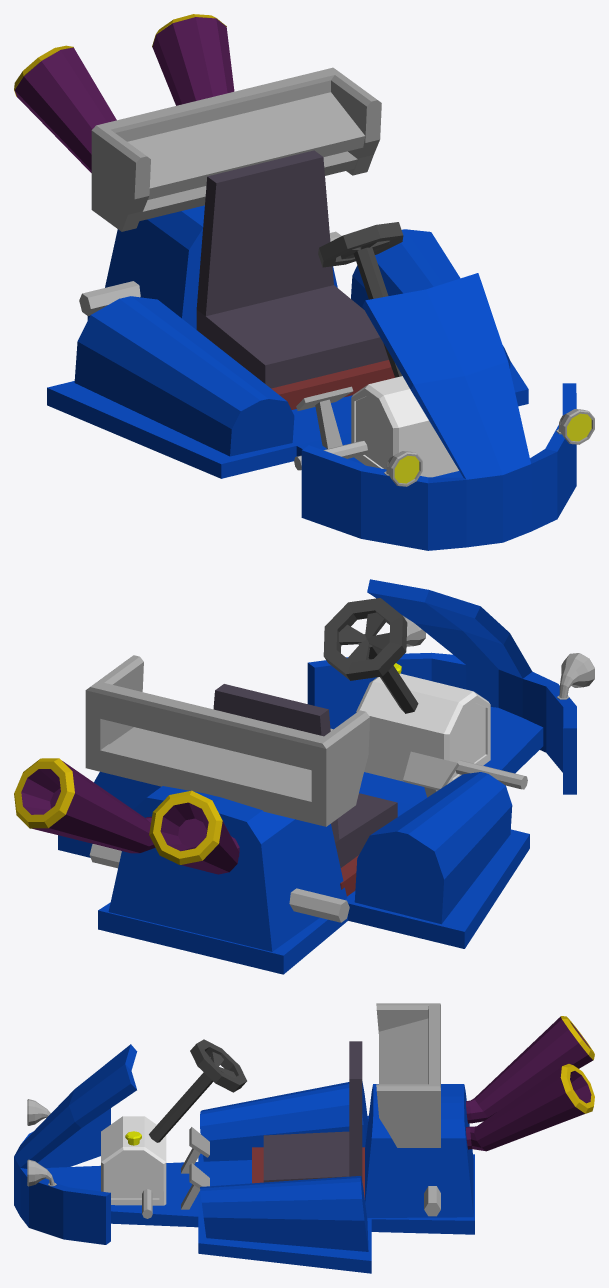
The model's file is ege_2.fbx.
The picture shows the model from 3 angles, top to bottom: view 1: azimuth 30°, elevation 25°; view 2: azimuth 150°, elevation 25°; view 3: azimuth 270°, elevation 25°; orthographic projection. The views are drawn at different scales.
Parts seen in each view (by area): view 1: ege_car2:group4KartPlataform1, ege_car2:group4Hood1, ege_car2:group4Chair1, ege_car2:MeshHood1, ege_car2:group4Catalysts1, ege_car2:group4SteeringWheel1, ege_car2:group4Lights_Kart1, ege_car2:Pedals1group4; view 2: ege_car2:group4KartPlataform1, ege_car2:MeshHood1, ege_car2:group4Hood1, ege_car2:group4Catalysts1, ege_car2:group4Chair1, ege_car2:group4SteeringWheel1, ege_car2:group4Lights_Kart1, ege_car2:Pedals1group4; view 3: ege_car2:group4KartPlataform1, ege_car2:group4Hood1, ege_car2:group4Catalysts1, ege_car2:MeshHood1, ege_car2:group4Chair1, ege_car2:group4SteeringWheel1, ege_car2:Pedals1group4, ege_car2:group4Lights_Kart1.
Part boxes in pixels (box(x1,y1,x2,y2)): ege_car2:group4KartPlataform1: box(47, 205, 528, 478); ege_car2:group4Hood1: box(301, 273, 576, 550); ege_car2:group4Chair1: box(196, 150, 394, 409); ege_car2:MeshHood1: box(91, 67, 381, 231); ege_car2:group4Catalysts1: box(14, 14, 234, 172); ege_car2:group4SteeringWheel1: box(318, 222, 403, 377); ege_car2:group4Lights_Kart1: box(384, 409, 594, 486); ege_car2:Pedals1group4: box(296, 386, 353, 448); ege_car2:group4KartPlataform1: box(58, 663, 543, 974); ege_car2:MeshHood1: box(85, 655, 369, 826); ege_car2:group4Hood1: box(307, 579, 576, 794); ege_car2:group4Catalysts1: box(14, 758, 239, 874); ege_car2:group4Chair1: box(213, 684, 397, 896); ege_car2:group4SteeringWheel1: box(323, 598, 418, 713); ege_car2:group4Lights_Kart1: box(403, 616, 594, 699); ege_car2:Pedals1group4: box(403, 751, 459, 797); ege_car2:group4KartPlataform1: box(44, 1081, 474, 1273); ege_car2:group4Hood1: box(14, 1044, 137, 1244); ege_car2:group4Catalysts1: box(466, 1016, 594, 1151); ege_car2:MeshHood1: box(376, 1003, 440, 1147); ege_car2:group4Chair1: box(252, 1041, 364, 1199); ege_car2:group4SteeringWheel1: box(149, 1039, 246, 1142); ege_car2:Pedals1group4: box(181, 1127, 209, 1209); ege_car2:group4Lights_Kart1: box(27, 1099, 56, 1186).
Bounding box in the file's own units: 1053 × 555 × 1775.
